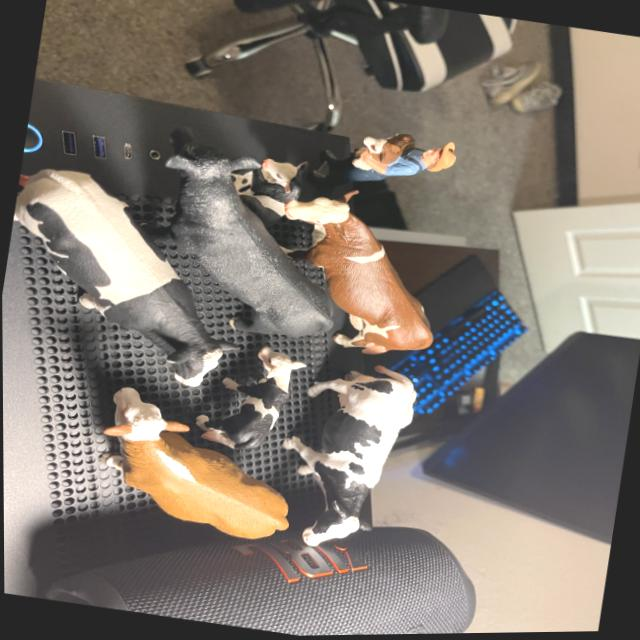cow: (1, 141, 242, 409), (126, 105, 343, 376), (76, 381, 300, 576), (250, 344, 425, 565), (280, 170, 437, 380), (189, 332, 306, 466), (225, 146, 304, 219)
